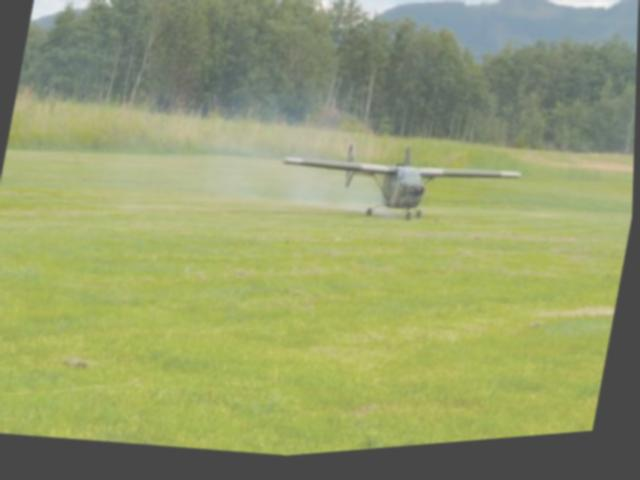uav: (271, 121, 528, 253)
